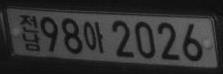0: (135, 20, 156, 59)
2: (157, 20, 180, 60), (111, 19, 135, 57)
6: (181, 22, 204, 62)
8: (60, 16, 83, 55)
9: (42, 15, 59, 51)
아: (84, 20, 104, 53)
전남_V: (17, 13, 42, 52)
